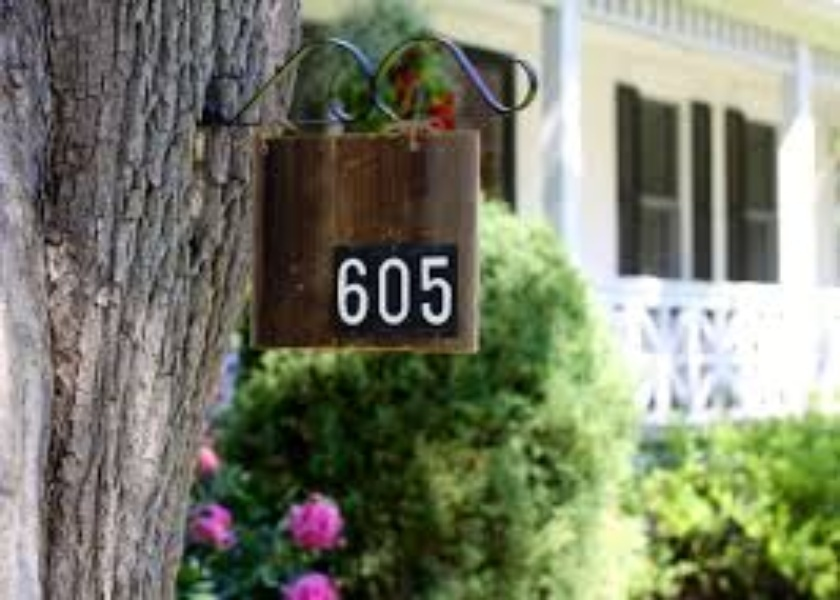text: (337, 253, 352, 326), (353, 253, 368, 326), (369, 253, 384, 326), (385, 253, 400, 326), (401, 253, 416, 326), (417, 253, 432, 326), (433, 253, 448, 326), (449, 253, 452, 326), (335, 253, 336, 326)
